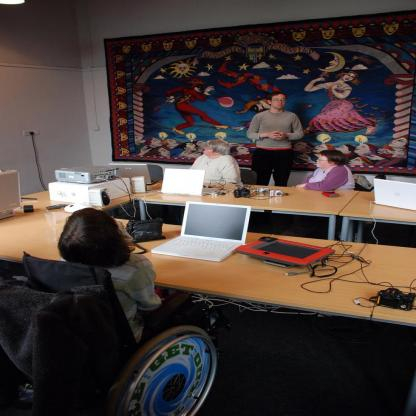board: (150, 201, 250, 261), (161, 170, 217, 196), (374, 178, 416, 210)
